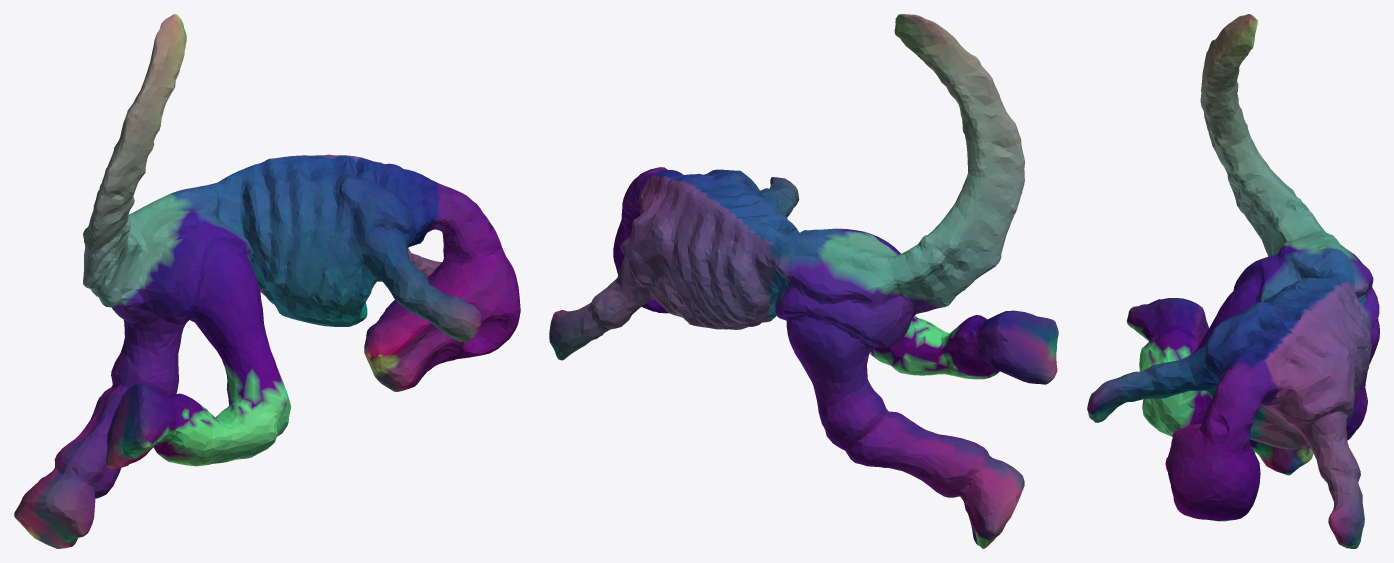
File: dino_skel-12.off.obj
3 renders of one model, left to right at view 1: azimuth 30°, elevation 25°; view 2: azimuth 150°, elevation 25°; view 3: azimuth 270°, elevation 25°, orthographic. The views are drawn at different scales.
Bounding box in the file's own units: 1.31 × 1.42 × 0.7506.
